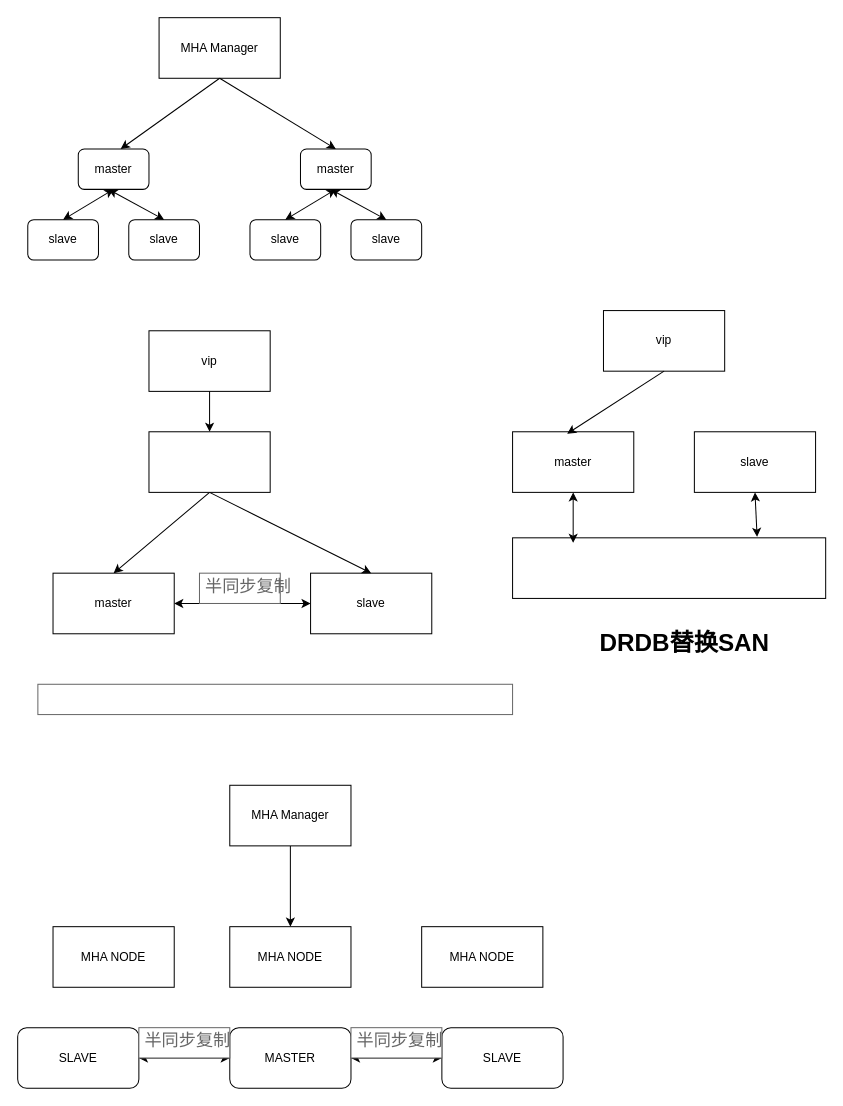
The diagram is 843 pixels wide and 1106 high, and some of its shapes have lost their labels. Each missing label, with the centre of its shape:
keepalived: the point at 209,461
SAN共享存储: the point at 669,567
半同步复制，如需要考虑网络波动问题，需要考虑双通道复制: the point at 275,699
